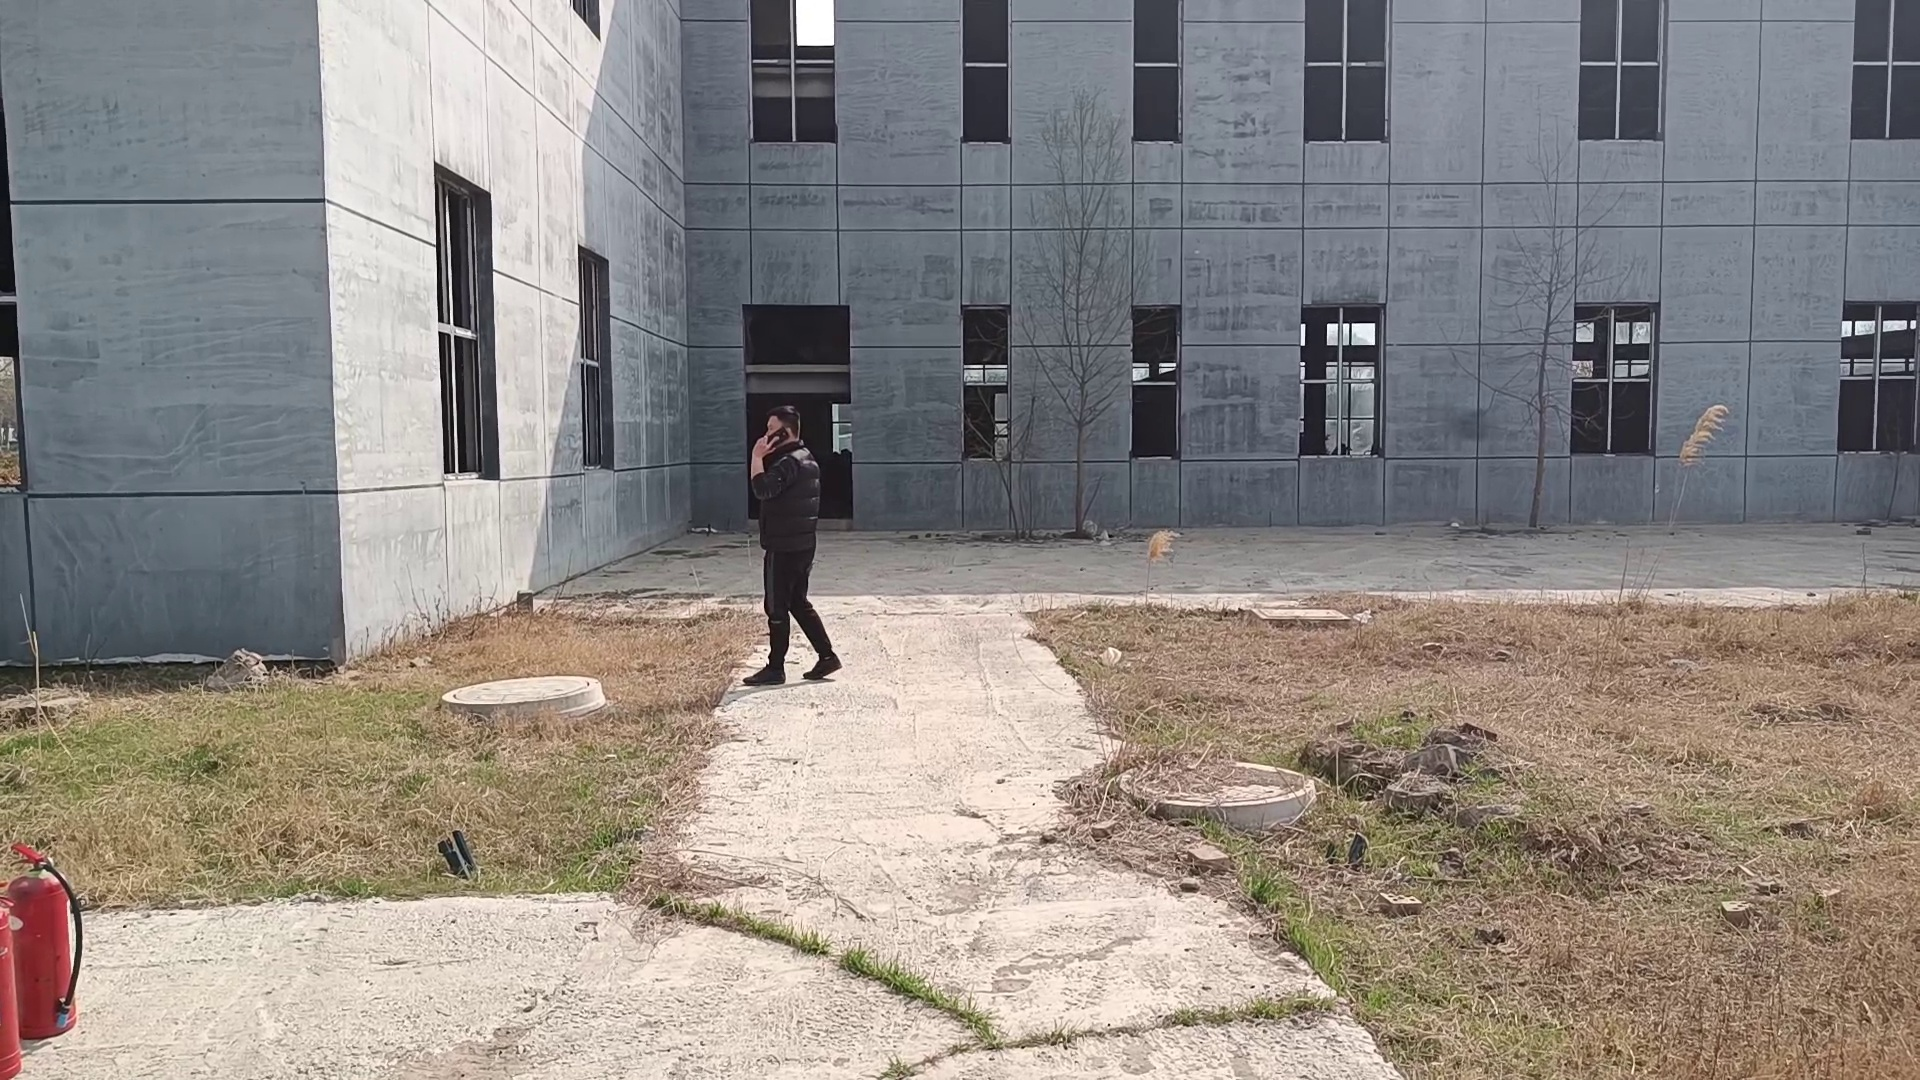phone: (749, 401, 804, 462)
